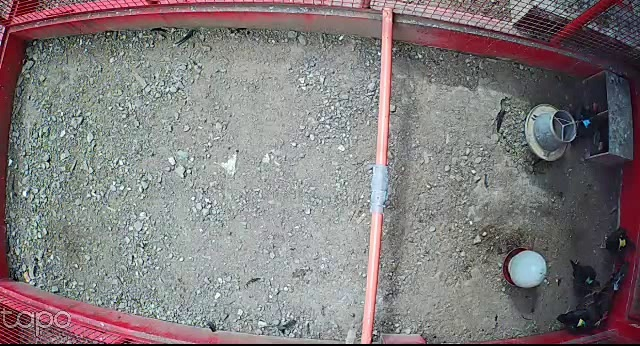Chicken: (571, 97, 604, 146), (556, 303, 606, 335), (596, 226, 638, 258), (569, 259, 604, 296)
Feeder: (525, 102, 576, 162)
Rooster: (583, 261, 631, 322)
Saddle_Color_Blue: (583, 118, 590, 128)
Saddle_Color_Yellow: (618, 237, 626, 246)
Saddle_Color_YellowGreen: (577, 320, 586, 327)
